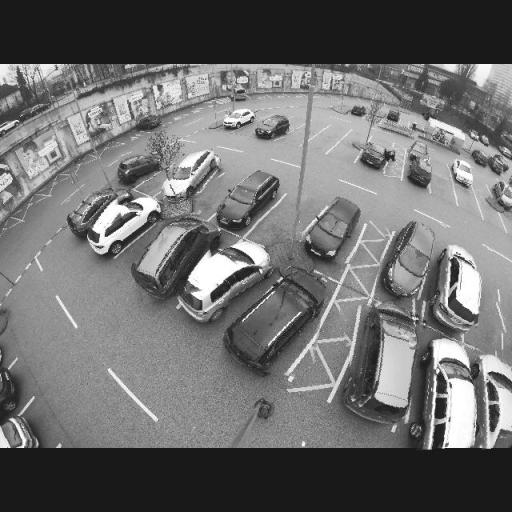busy: (344, 298, 435, 428), (222, 264, 324, 376), (410, 333, 488, 449), (130, 214, 214, 301), (180, 244, 266, 319), (378, 216, 443, 300), (429, 242, 491, 329), (300, 196, 360, 263), (217, 169, 282, 228), (473, 351, 512, 449), (89, 198, 157, 250), (156, 152, 222, 203), (68, 190, 121, 230), (116, 151, 159, 183), (0, 414, 41, 446), (252, 114, 290, 140), (403, 154, 432, 187), (358, 143, 392, 171), (489, 178, 512, 211), (221, 108, 254, 130), (449, 160, 474, 186), (486, 155, 509, 175), (136, 114, 162, 131), (470, 148, 490, 166), (349, 102, 365, 117), (334, 102, 350, 114), (478, 136, 492, 146)
free: (472, 302, 509, 338), (266, 207, 300, 233), (200, 184, 226, 206), (478, 206, 504, 224), (148, 171, 169, 189), (431, 178, 451, 196), (316, 131, 337, 146), (334, 145, 356, 159), (456, 190, 474, 207), (347, 130, 365, 147), (386, 159, 402, 175), (434, 162, 451, 177), (286, 132, 304, 146), (305, 124, 325, 135)
